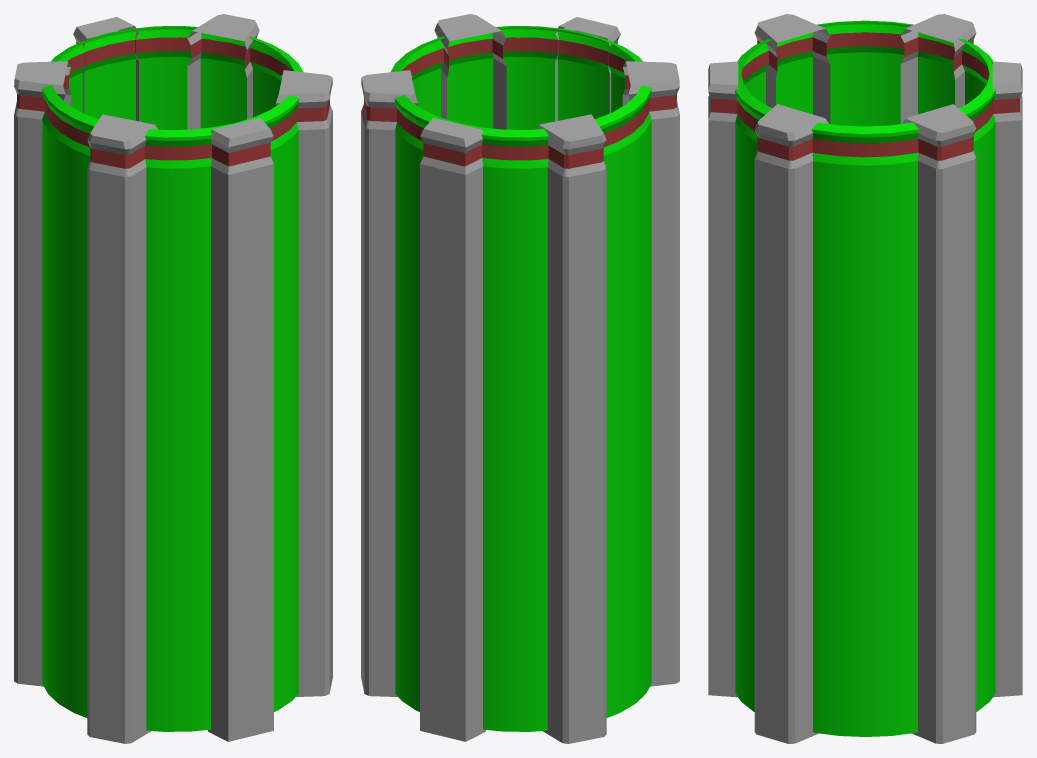
File: SM_Core_Pillar.fbx
The picture shows the model from 3 angles, left to right: view 1: azimuth 30°, elevation 25°; view 2: azimuth 150°, elevation 25°; view 3: azimuth 270°, elevation 25°; orthographic projection.
Parts seen in each view (by area): view 1: SM_Core_Pillar; view 2: SM_Core_Pillar; view 3: SM_Core_Pillar.
Part boxes in pixels (bbox=[...]): SM_Core_Pillar: bbox=[14, 14, 332, 743]; SM_Core_Pillar: bbox=[361, 14, 679, 743]; SM_Core_Pillar: bbox=[708, 14, 1022, 743].
Bounding box in the file's own units: 740 × 1754 × 819.
